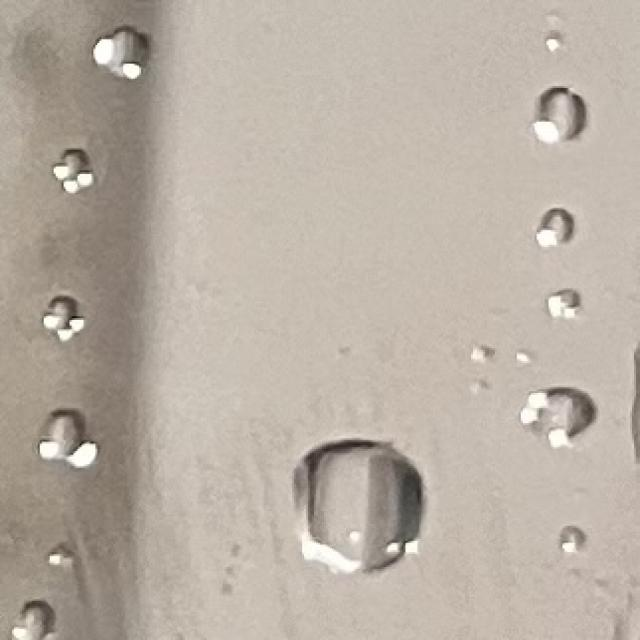raindrop: (302, 439, 448, 578), (85, 21, 174, 96), (516, 384, 603, 458), (32, 403, 93, 480), (40, 141, 109, 200), (528, 79, 592, 138), (33, 294, 92, 346), (533, 205, 581, 248), (16, 590, 62, 633), (561, 517, 598, 566), (538, 292, 584, 326), (548, 28, 588, 62), (43, 544, 74, 570)
